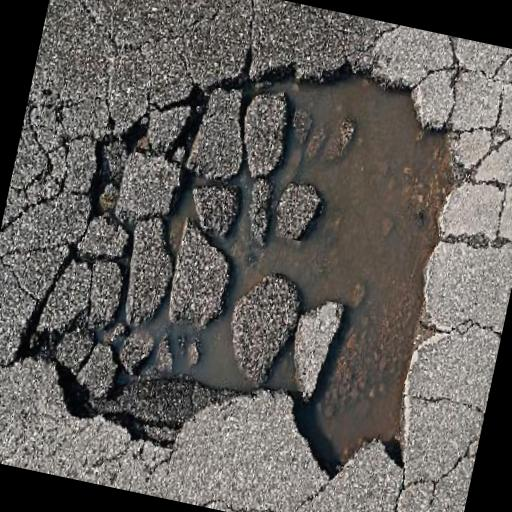pothole: (0, 0, 489, 505)
